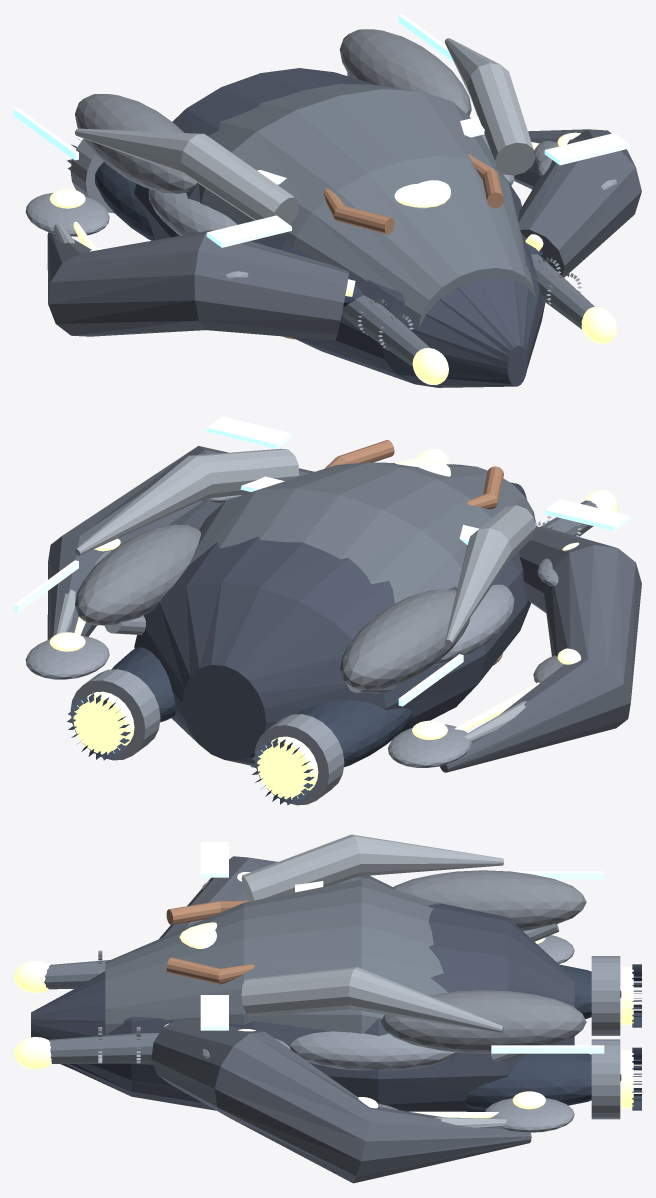
Rendered from npc_mordon.glb.
3 renders of one model, top to bottom at view 1: azimuth 30°, elevation 25°; view 2: azimuth 150°, elevation 25°; view 3: azimuth 270°, elevation 25°, orthographic. The views are drawn at different scales.
Visible parts, largest first — view 1: upper_armor_scar, armored_scythe_-1, keel_pressure_hull, armored_scythe_1, kharon_battle_bridge_-1, kharon_reinforced_nacelle_1, kharon_battle_bridge_1, kharon_reinforced_nacelle_-1, V59 trim baked, long_plasma_cannon_-1, heavy_shield_pad_-1, scythe_plate_-1_2 (+9 smaller); view 2: keel_pressure_hull, upper_armor_scar, armored_scythe_-1, kharon_reinforced_nacelle_-1, kharon_reinforced_nacelle_1, kharon_battle_bridge_1, armored_scythe_1, V59 trim baked, kharon_battle_bridge_-1, engine_armor_-1, exhaust_coil_-1, exhaust_coil_1 (+17 smaller); view 3: upper_armor_scar, armored_scythe_1, keel_pressure_hull, kharon_battle_bridge_1, kharon_reinforced_nacelle_1, kharon_battle_bridge_-1, kharon_reinforced_nacelle_-1, heavy_shield_pad_1, engine_armor_1, V59 trim baked, long_plasma_cannon_1, exhaust_coil_-1 (+15 smaller).
Boxes of the visible parts, box(x1,y1,x2,y2) form: upper_armor_scar: box(199, 84, 535, 327); armored_scythe_-1: box(47, 230, 348, 340); keel_pressure_hull: box(134, 68, 545, 387); armored_scythe_1: box(514, 129, 641, 277); kharon_battle_bridge_-1: box(75, 128, 298, 224); kharon_reinforced_nacelle_1: box(339, 29, 471, 116); kharon_battle_bridge_1: box(445, 38, 535, 175); kharon_reinforced_nacelle_-1: box(75, 94, 196, 193); V59 trim baked: box(14, 14, 629, 247); long_plasma_cannon_-1: box(342, 295, 430, 366); heavy_shield_pad_-1: box(148, 189, 237, 235); scythe_plate_-1_2: box(25, 192, 109, 236); keel_pressure_hull: box(134, 482, 537, 765); upper_armor_scar: box(189, 462, 535, 603); armored_scythe_-1: box(440, 527, 641, 772); kharon_reinforced_nacelle_-1: box(339, 589, 470, 690); kharon_reinforced_nacelle_1: box(75, 524, 200, 625); kharon_battle_bridge_1: box(75, 448, 298, 555); armored_scythe_1: box(47, 446, 314, 639); V59 trim baked: box(14, 416, 629, 706); kharon_battle_bridge_-1: box(445, 505, 535, 645); engine_armor_-1: box(298, 700, 412, 767); exhaust_coil_-1: box(254, 714, 344, 805); exhaust_coil_1: box(70, 669, 160, 760); upper_armor_scar: box(105, 879, 447, 1035); armored_scythe_1: box(151, 1019, 531, 1183); keel_pressure_hull: box(31, 902, 574, 1111); kharon_battle_bridge_1: box(241, 967, 503, 1033); kharon_reinforced_nacelle_1: box(381, 990, 586, 1053); kharon_battle_bridge_-1: box(241, 834, 503, 900); kharon_reinforced_nacelle_-1: box(392, 870, 586, 930); heavy_shield_pad_1: box(289, 1031, 460, 1070); engine_armor_1: box(463, 1053, 621, 1109); V59 trim baked: box(200, 842, 604, 1053); long_plasma_cannon_1: box(48, 1033, 158, 1063); exhaust_coil_-1: box(591, 956, 620, 1035).
Bounding box in the file's own units: 3.52 × 1.25 × 3.54.
